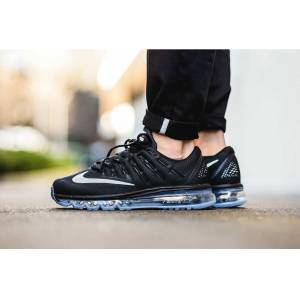nike: (71, 172, 136, 190)
